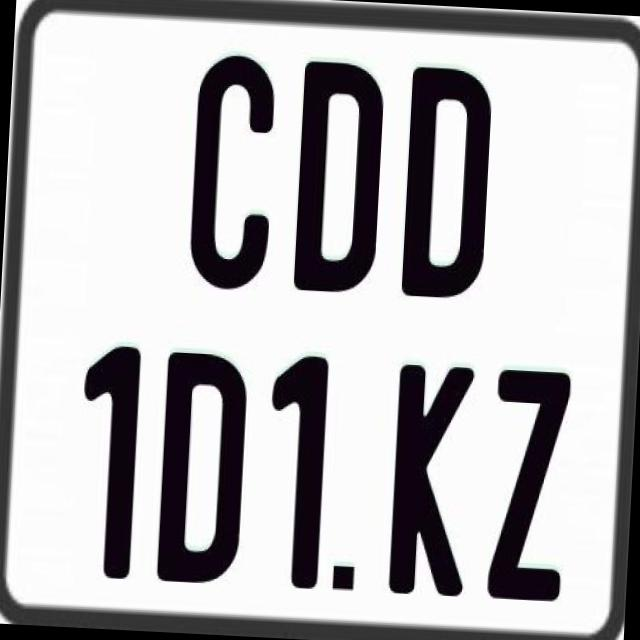1: (262, 352, 333, 596), (75, 340, 141, 582)
C: (184, 52, 280, 298)
D: (290, 60, 390, 302), (400, 62, 494, 297), (157, 349, 250, 585)
K: (386, 361, 476, 600)
Z: (486, 368, 574, 604)
